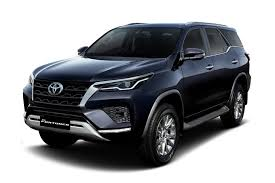Toyota: (28, 24, 231, 143)
